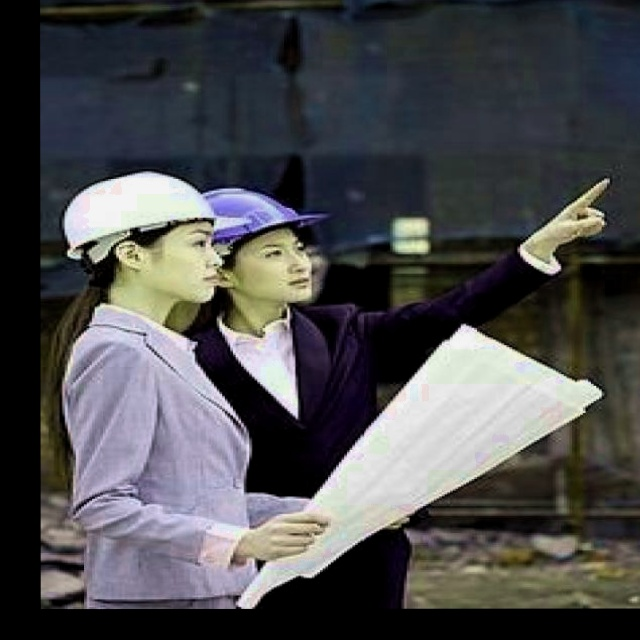Con_Casco: (63, 169, 220, 302)
